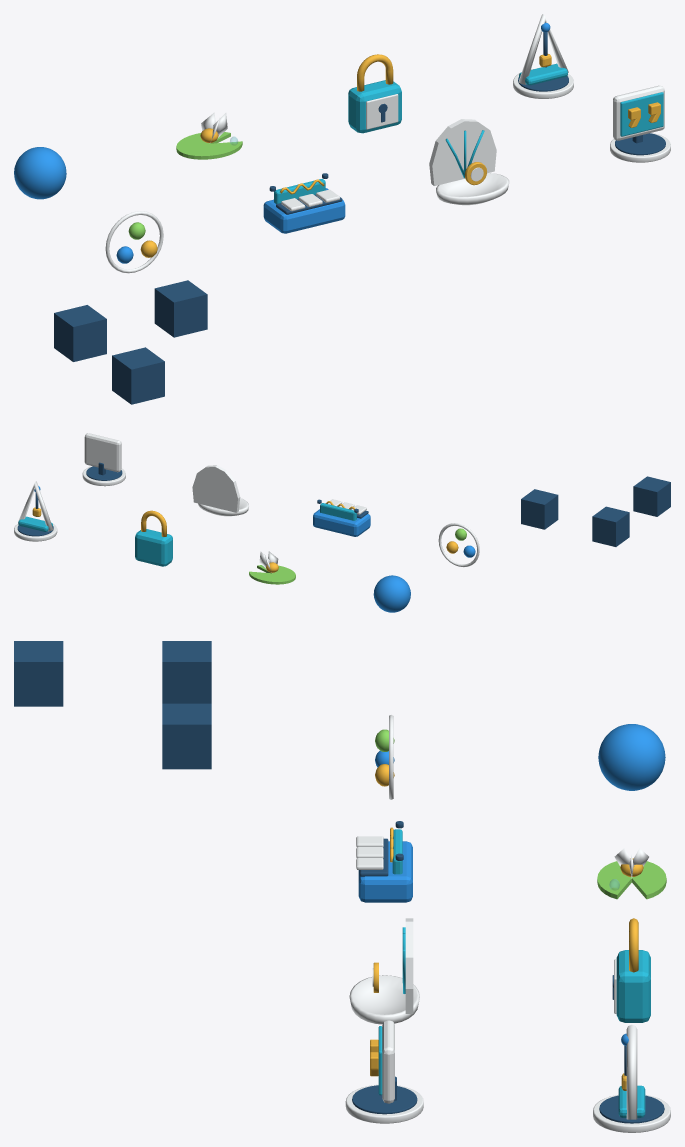
Rendered from catalog-005.glb.
3 renders of one model, top to bottom at view 1: azimuth 30°, elevation 25°; view 2: azimuth 150°, elevation 25°; view 3: azimuth 270°, elevation 25°, orthographic. The views are drawn at different scales.
Visible parts, largest first — view 1: landing_fund__ShellLid_pearl_04, catalog_005__calibration_right, catalog_005__calibration_front, catalog_005__calibration_origin, life__Ball_blue_01, lagoon_synth__Fixed_blue_01, landing_fund__Fixed_pearl_03, last_word__Fixed_pearl_04, lock__Fixed_teal_04, metronome__Fixed_pearl_05, lily_pad__LilyPad_green_03, last_word__Fixed_teal_05 (+5 smaller); view 2: landing_fund__ShellLid_pearl_04, last_word__Fixed_pearl_04, catalog_005__calibration_front, catalog_005__calibration_origin, catalog_005__calibration_right, lock__Fixed_teal_04, life__Ball_blue_01, lagoon_synth__Fixed_blue_01, metronome__Fixed_pearl_05, lily_pad__LilyPad_green_03, jumble__Fixed_pearl_04, last_word__Fixed_dark_01 (+4 smaller); view 3: life__Ball_blue_01, catalog_005__calibration_right, catalog_005__calibration_front, catalog_005__calibration_origin, landing_fund__Fixed_pearl_03, lock__Fixed_teal_04, metronome__Fixed_pearl_05, last_word__Fixed_pearl_04, lagoon_synth__Fixed_blue_01, lily_pad__LilyPad_green_03, last_word__Fixed_dark_01, metronome__Fixed_dark_02 (+1 smaller).
Boxes of the visible parts, box(x1,y1,x2,y2) form: landing_fund__ShellLid_pearl_04: box(429, 119, 496, 185); catalog_005__calibration_right: box(154, 280, 207, 337); catalog_005__calibration_front: box(112, 347, 164, 404); catalog_005__calibration_origin: box(54, 305, 106, 361); life__Ball_blue_01: box(14, 147, 66, 199); lagoon_synth__Fixed_blue_01: box(263, 188, 345, 233); landing_fund__Fixed_pearl_03: box(436, 173, 509, 205); last_word__Fixed_pearl_04: box(610, 85, 670, 162); lock__Fixed_teal_04: box(348, 80, 401, 133); metronome__Fixed_pearl_05: box(513, 14, 573, 98); lily_pad__LilyPad_green_03: box(176, 132, 242, 159); last_word__Fixed_teal_05: box(620, 92, 663, 136); landing_fund__ShellLid_pearl_04: box(192, 465, 240, 512); last_word__Fixed_pearl_04: box(82, 433, 125, 486); catalog_005__calibration_front: box(633, 476, 670, 516); catalog_005__calibration_origin: box(592, 506, 629, 546); catalog_005__calibration_right: box(521, 489, 558, 529); lock__Fixed_teal_04: box(135, 529, 172, 566); life__Ball_blue_01: box(373, 575, 410, 612); lagoon_synth__Fixed_blue_01: box(313, 509, 370, 536); metronome__Fixed_pearl_05: box(14, 481, 57, 541); lily_pad__LilyPad_green_03: box(249, 565, 295, 584); jumble__Fixed_pearl_04: box(438, 523, 479, 567); last_word__Fixed_dark_01: box(86, 462, 122, 480); life__Ball_blue_01: box(598, 724, 665, 790); catalog_005__calibration_right: box(162, 703, 211, 769); catalog_005__calibration_front: box(14, 641, 63, 706); catalog_005__calibration_origin: box(162, 641, 211, 703); landing_fund__Fixed_pearl_03: box(349, 975, 419, 1024); lock__Fixed_teal_04: box(616, 950, 650, 1022); metronome__Fixed_pearl_05: box(593, 1024, 670, 1132); last_word__Fixed_pearl_04: box(345, 1020, 423, 1123); lagoon_synth__Fixed_blue_01: box(358, 841, 412, 902); lily_pad__LilyPad_green_03: box(597, 861, 666, 899); last_word__Fixed_dark_01: box(352, 1076, 417, 1114); metronome__Fixed_dark_02: box(599, 1095, 664, 1123).
Bounding box in the file's own units: 5.68 × 0.5768 × 3.72.
